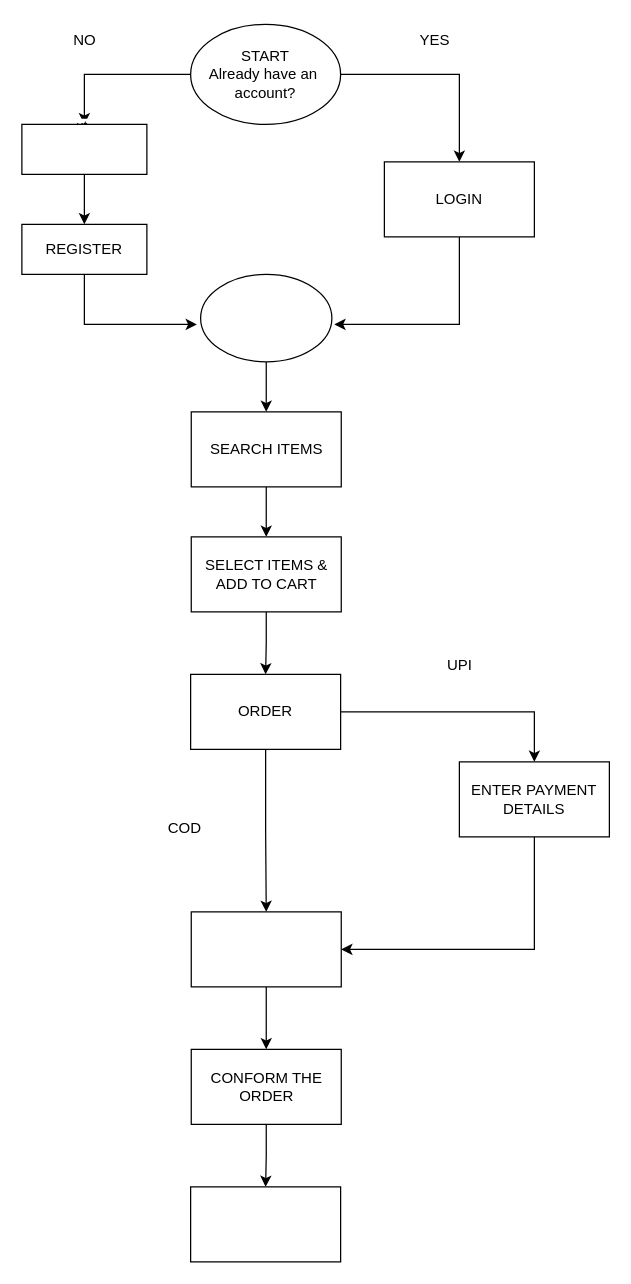
The diagram is 631 pixels wide and 1284 high, and some of its shapes have lost their labels. Here are the shapes that lost their labels. From the top down, the centre of each, then its label:
the point at 84,148: SIGN UP
the point at 265,317: HOME SCREEN
the point at 265,949: ENTER ADRESS DETAILS
the point at 265,1224: FEEDBACK
